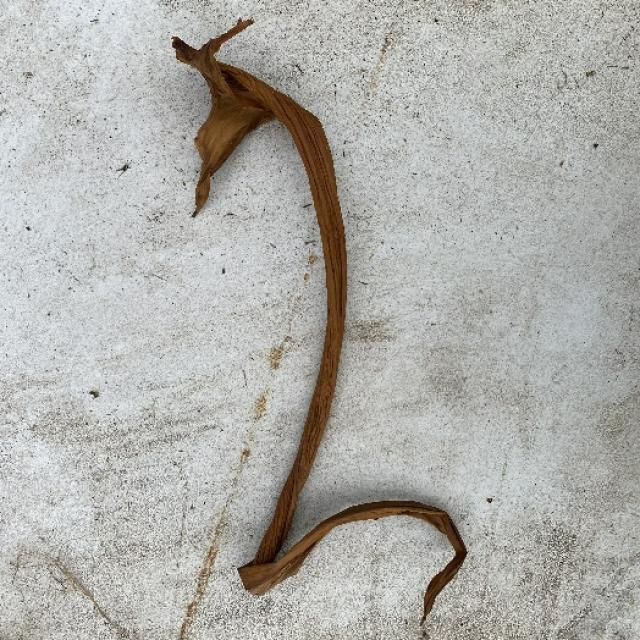organik: (162, 19, 468, 636)
